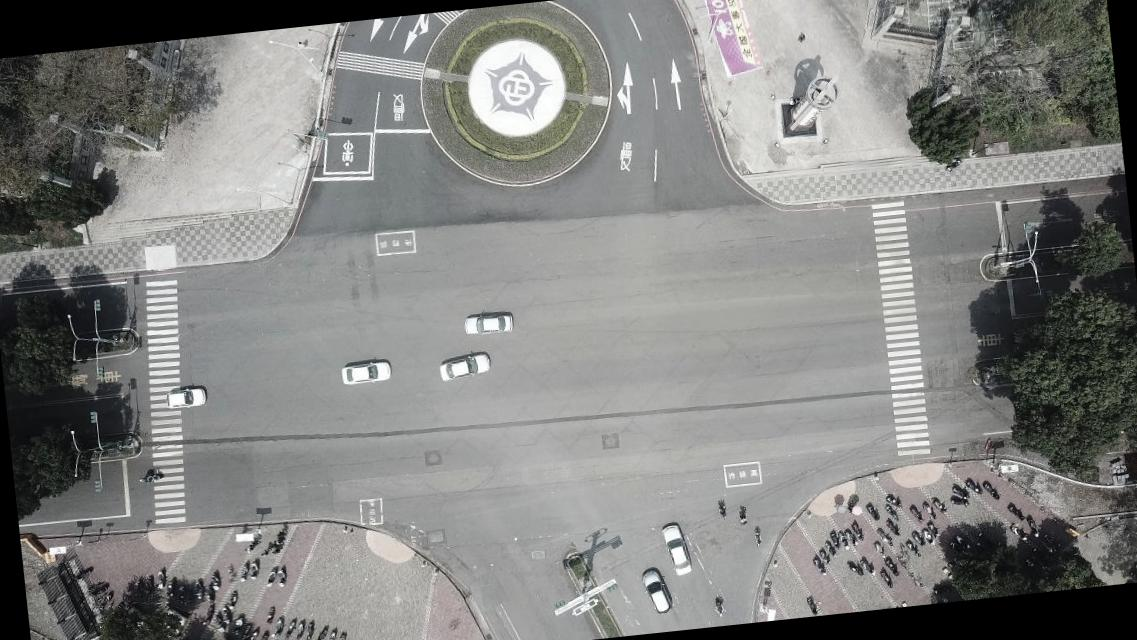vehicle: (661, 522, 692, 576), (640, 565, 673, 615), (438, 352, 492, 382), (340, 359, 392, 385), (463, 310, 514, 336), (165, 386, 207, 410)
